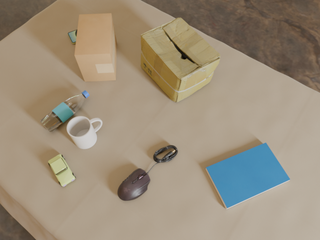book: (206, 143, 290, 209)
bottle: (40, 90, 89, 132)
box: (141, 18, 220, 102), (75, 13, 117, 82)
cup: (67, 116, 102, 149)
mouse: (118, 169, 150, 201)
phone: (68, 30, 77, 44)
toy_car: (48, 154, 76, 187)
